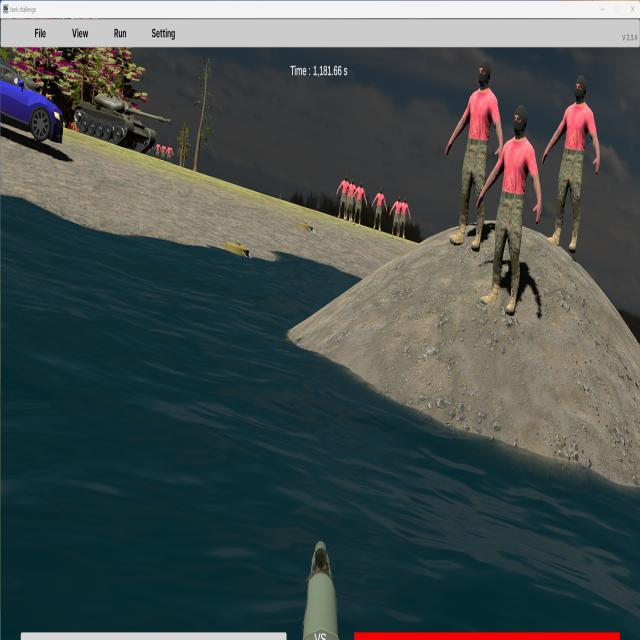Human: (476, 105, 543, 317), (445, 60, 503, 252), (542, 73, 601, 253), (336, 174, 353, 222), (352, 181, 368, 228), (371, 187, 387, 232), (390, 195, 405, 239), (397, 196, 411, 240)
Tank: (73, 92, 172, 156)
car: (0, 58, 64, 145)
